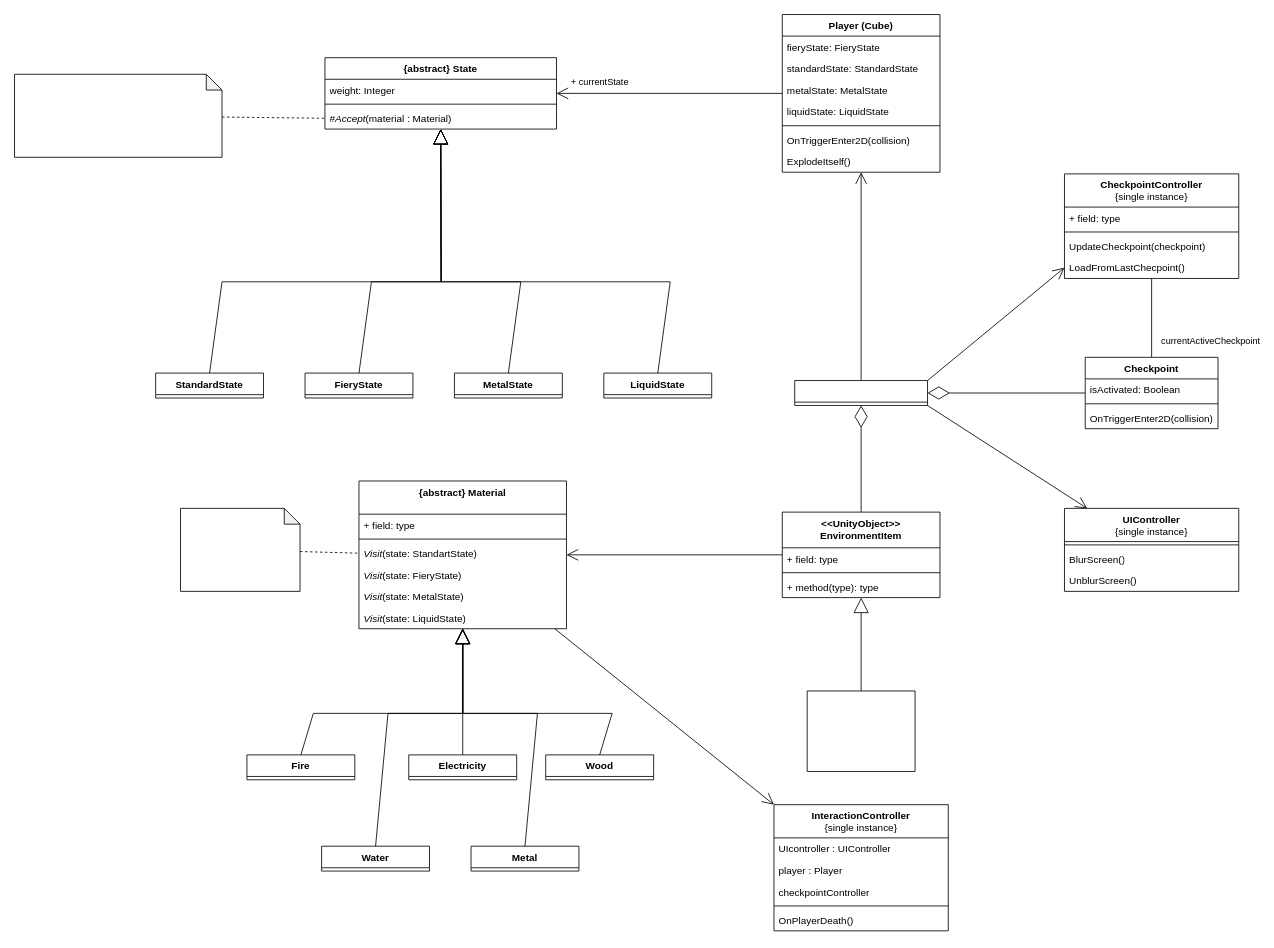
The diagram is 1274 pixels wide and 948 high, and some of its shapes have lost their labels. Each missing label, with the centre of its shape:
<<UnityObject>> Metal / Wood / Liquid / Another item: the point at 860,730
Environment (Scene): the point at 861,392
protected void Accept(material : Material) => material.Visit(): the point at 118,115
Каждый потомок переопределяет поведение в каждом конкретном случае: the point at 240,549
